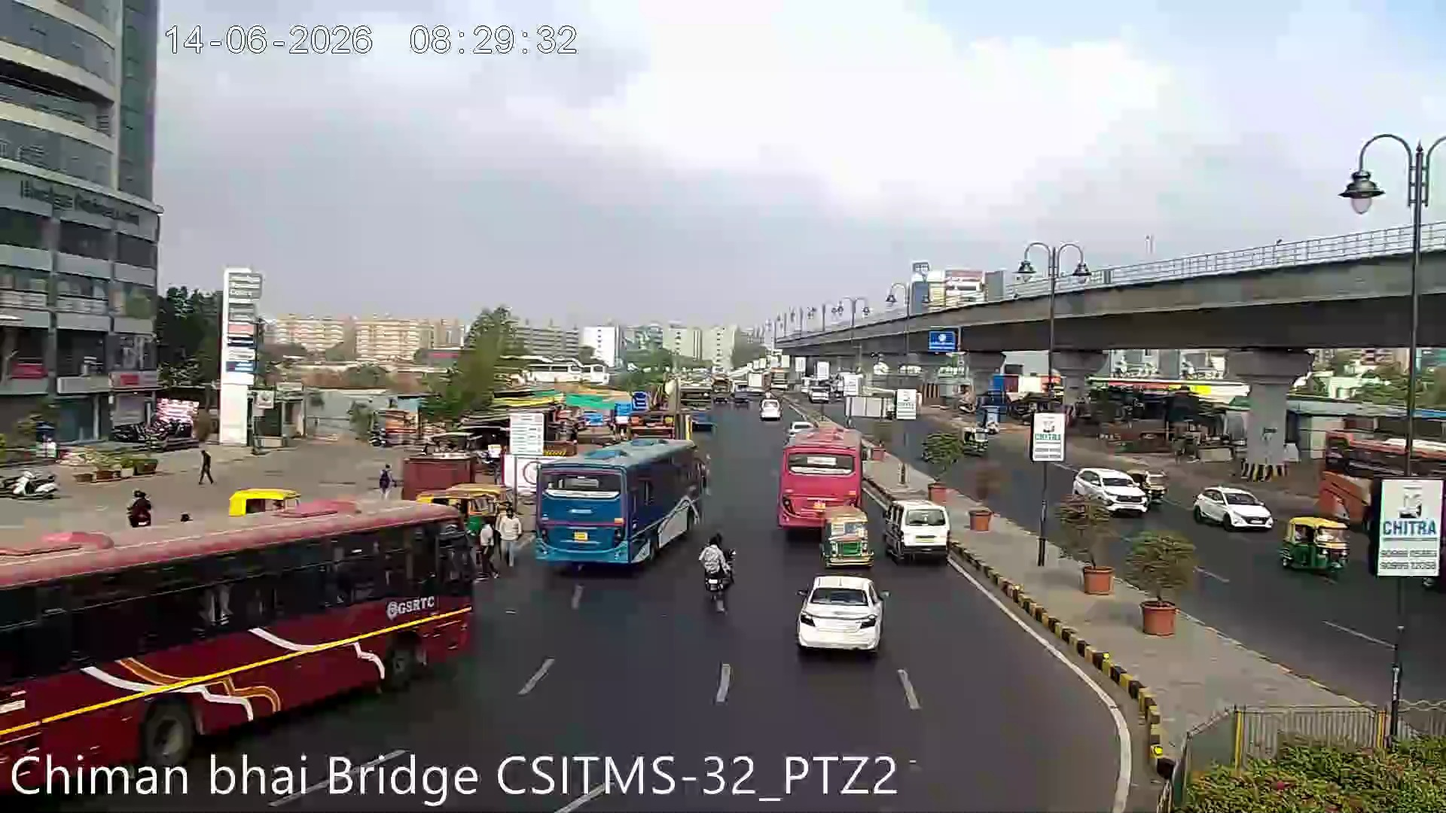auto_rickshaw: (1278, 511, 1351, 574), (446, 483, 513, 532), (821, 509, 872, 564)
bus: (0, 507, 495, 752), (528, 438, 713, 562), (775, 415, 866, 537)
car: (793, 569, 887, 657), (883, 495, 953, 560), (1070, 463, 1152, 516), (1192, 482, 1274, 533)
pedestrian: (196, 444, 216, 487)
two_wheeler: (122, 483, 158, 533)
